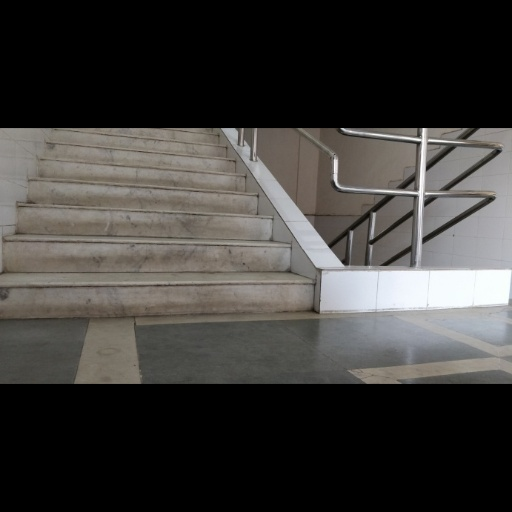Stairs: (0, 129, 313, 318)
